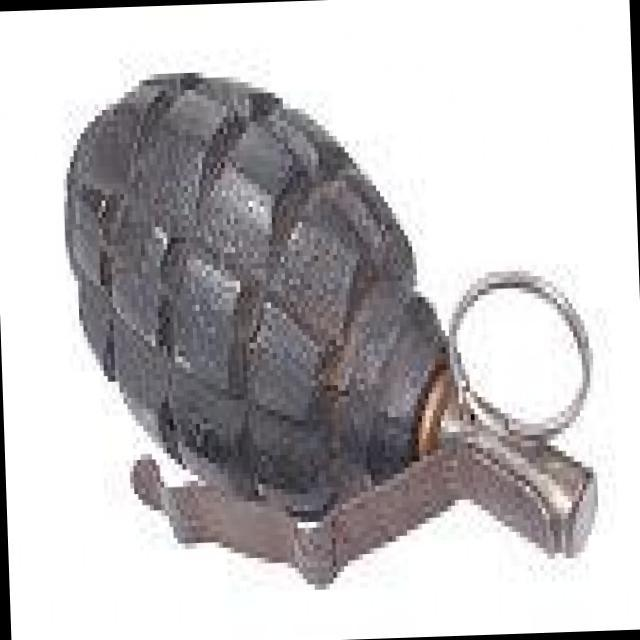grenade: (44, 51, 600, 590)
